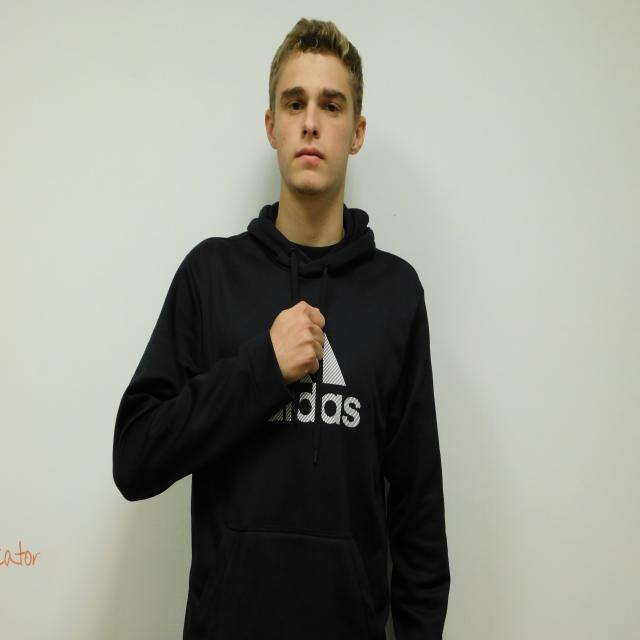sorry: (270, 301, 324, 382)
